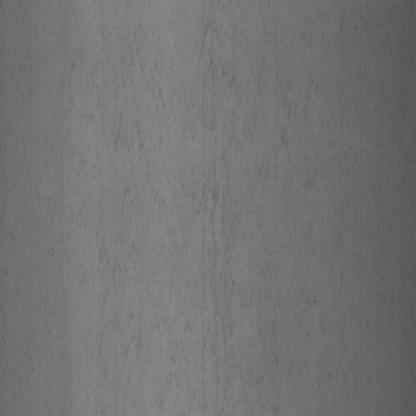silk_spot: (1, 27, 156, 397), (158, 24, 272, 387)
